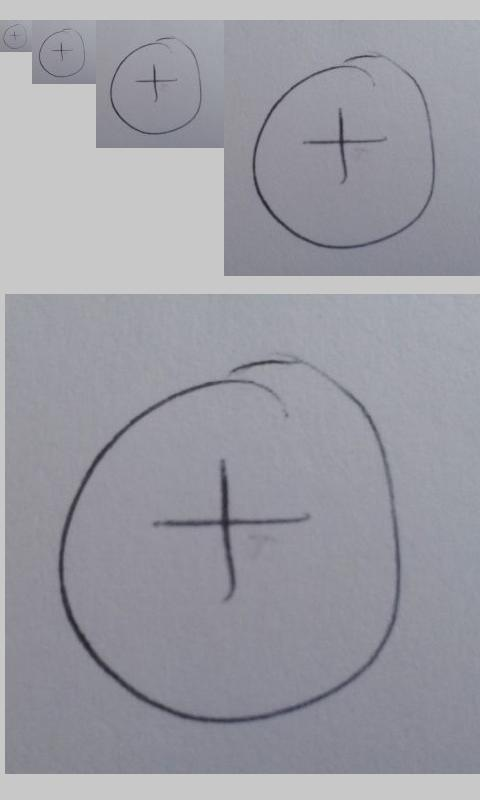button: (56, 355, 406, 728), (251, 52, 436, 250), (109, 36, 203, 136), (38, 28, 86, 78), (2, 23, 28, 50)
